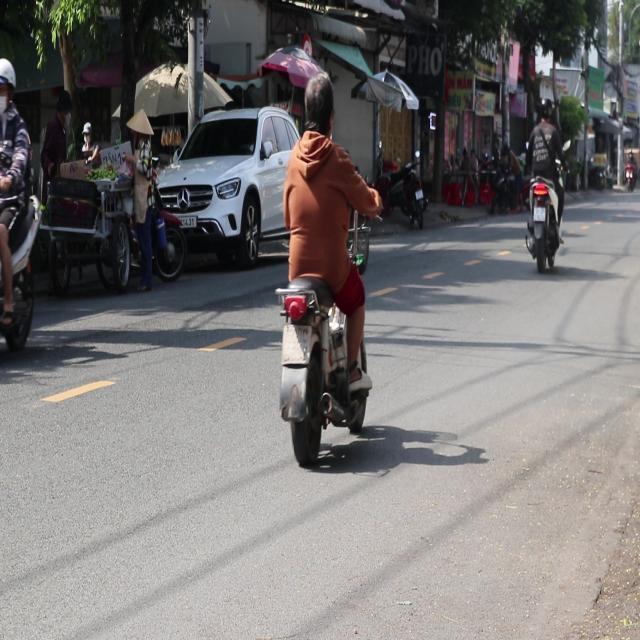helmet: (0, 56, 16, 110), (537, 92, 553, 122)
licenseplate: (274, 68, 379, 469), (0, 55, 42, 370), (523, 91, 566, 270)
motorcyclist: (300, 71, 336, 139)
nohelmet: (280, 324, 310, 363), (533, 206, 545, 220)
